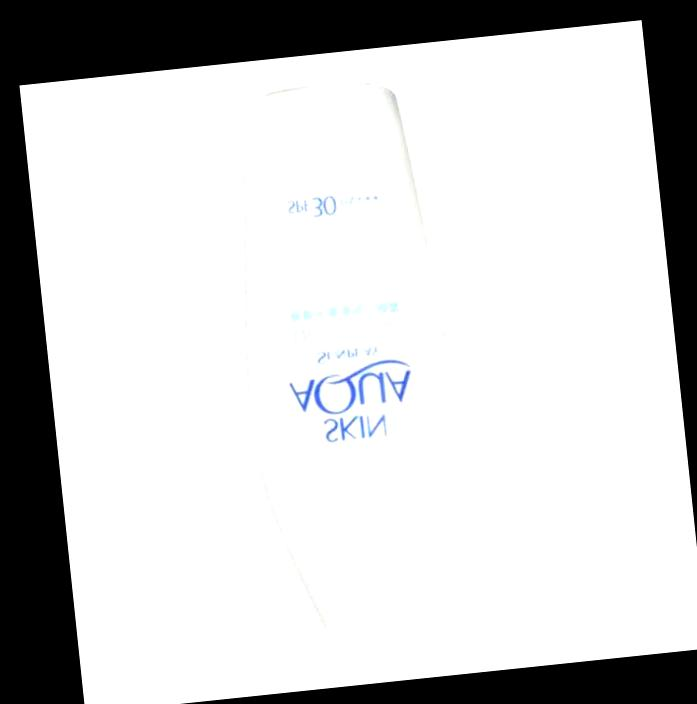cosmetic: (232, 90, 466, 644)
